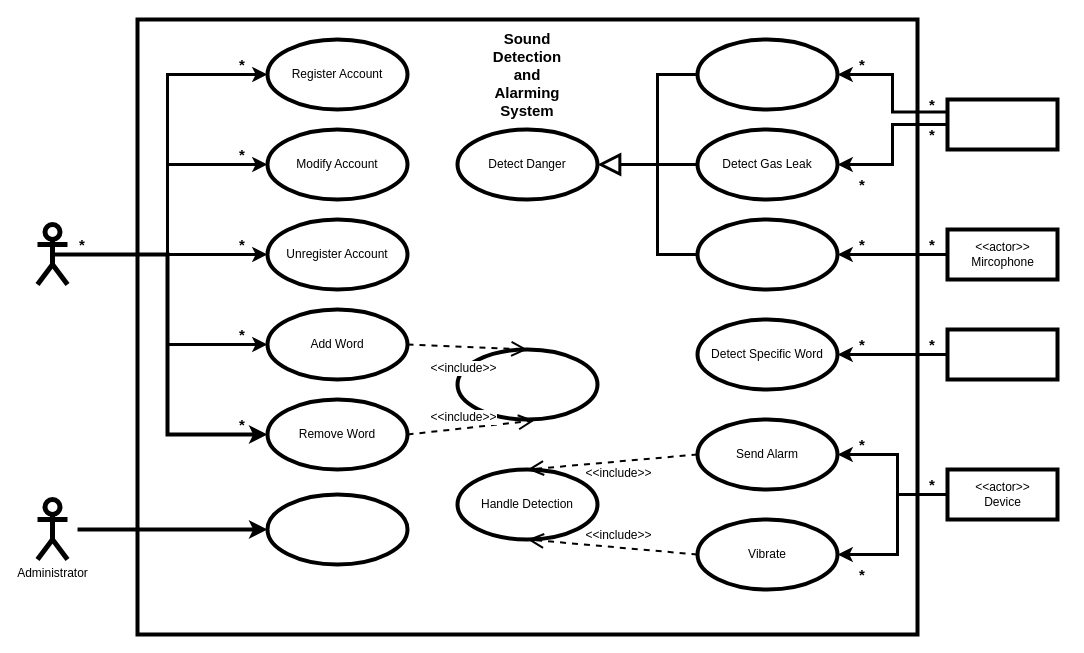
This 1084x653 diagram has some shape labels left out. Each missing label, with the centre of its shape:
"<<actor>> Arduino" goes at (1002,124).
"<<actor>> TensorFlow" goes at (1002,354).
"Detect Flame" goes at (767,74).
"Detect Loud Sound" goes at (767,254).
"Log In" goes at (527,384).
"Manage Memer Account" goes at (337,529).
"User" goes at (52,254).
